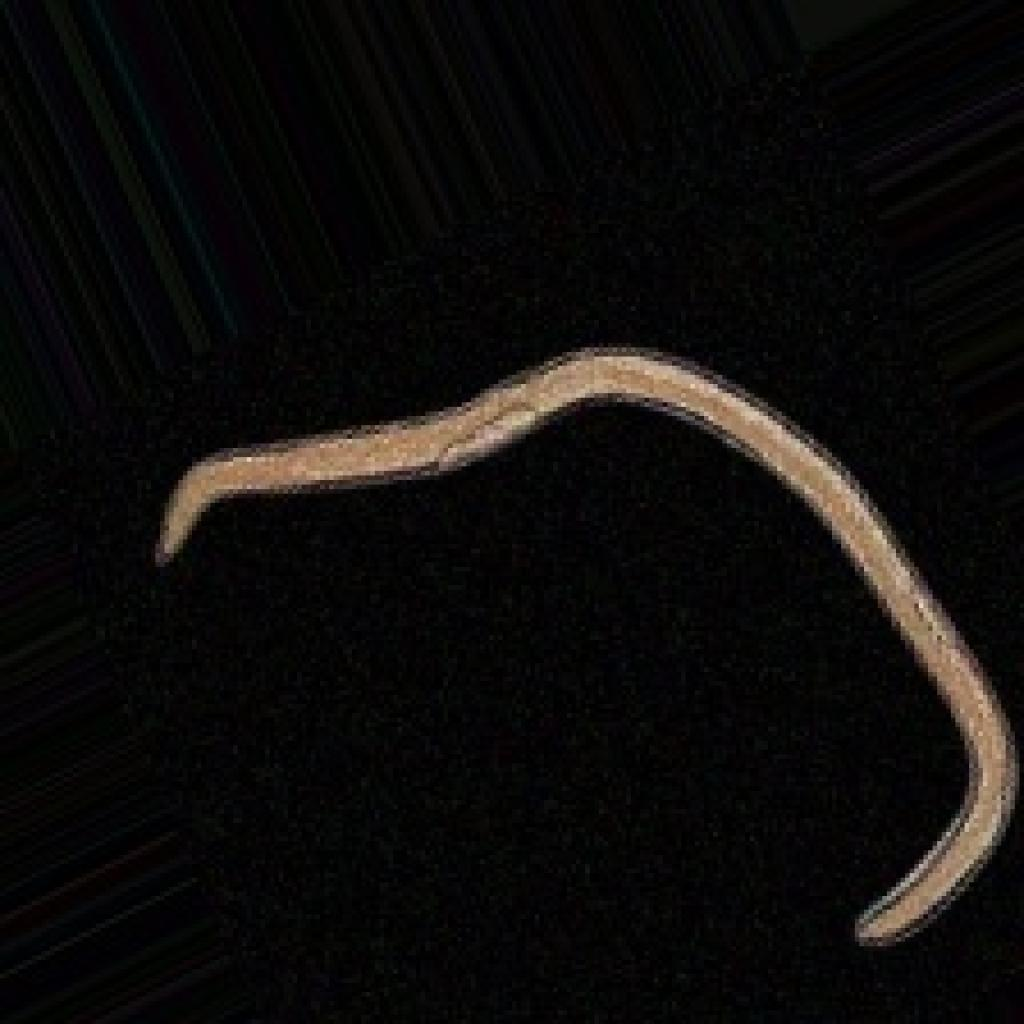Nematode: (142, 334, 1019, 951)
